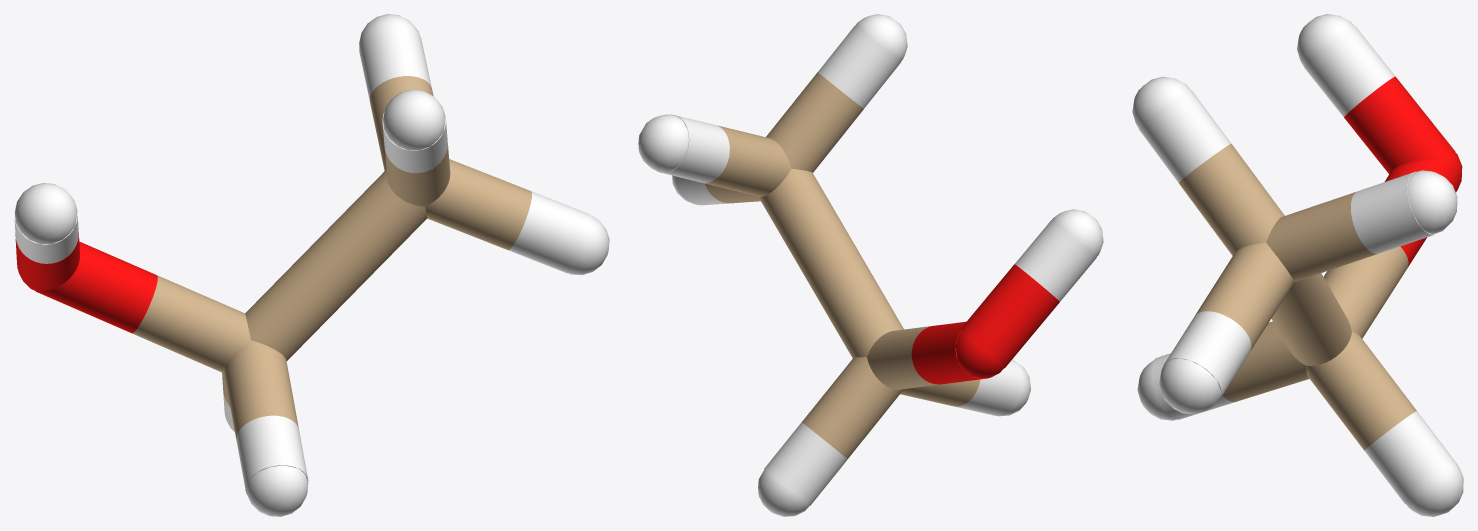
File: ethanol.dae
3 views of the same model, side by side, from view 1: azimuth 30°, elevation 25°; view 2: azimuth 150°, elevation 25°; view 3: azimuth 270°, elevation 25° (orthographic). The views are drawn at different scales.
Visible parts, largest first — view 1: subnode_13, subnode_10, subnode_18, subnode_9, subnode_14, subnode_19, subnode_21, subnode_15, subnode_8, subnode_7, subnode_3, subnode_22 (+5 smaller); view 2: subnode_13, subnode_11, subnode_22, subnode_16, subnode_17, subnode_23, subnode_20, subnode_12, subnode_9, subnode_21, subnode_10, subnode_6 (+8 smaller); view 3: subnode_16, subnode_22, subnode_11, subnode_20, subnode_18, subnode_13, subnode_17, subnode_23, subnode_12, subnode_10, subnode_21, subnode_19 (+9 smaller).
Part boxes in pixels (bbox=[...]): subnode_13: bbox=[245, 169, 427, 360]; subnode_10: bbox=[132, 275, 250, 373]; subnode_18: bbox=[425, 159, 531, 249]; subnode_9: bbox=[36, 241, 157, 333]; subnode_14: bbox=[224, 340, 298, 440]; subnode_19: bbox=[508, 191, 590, 273]; subnode_21: bbox=[359, 25, 431, 100]; subnode_15: bbox=[236, 415, 308, 493]; subnode_8: bbox=[14, 183, 77, 243]; subnode_7: bbox=[383, 89, 445, 150]; subnode_3: bbox=[246, 465, 308, 516]; subnode_22: bbox=[384, 142, 450, 206]; subnode_13: bbox=[758, 169, 903, 358]; subnode_11: bbox=[960, 264, 1059, 368]; subnode_22: bbox=[766, 72, 863, 172]; subnode_16: bbox=[802, 357, 903, 458]; subnode_17: bbox=[764, 422, 847, 505]; subnode_23: bbox=[818, 25, 900, 108]; subnode_20: bbox=[702, 125, 791, 196]; subnode_12: bbox=[1015, 220, 1096, 301]; subnode_9: bbox=[911, 321, 993, 384]; subnode_21: bbox=[656, 114, 729, 182]; subnode_10: bbox=[867, 326, 937, 389]; subnode_6: bbox=[638, 114, 688, 172]; subnode_16: bbox=[1306, 332, 1416, 450]; subnode_22: bbox=[1179, 143, 1284, 255]; subnode_11: bbox=[1344, 76, 1455, 173]; subnode_20: bbox=[1266, 192, 1376, 281]; subnode_18: bbox=[1194, 242, 1294, 350]; subnode_13: bbox=[1271, 273, 1351, 365]; subnode_17: bbox=[1364, 411, 1457, 503]; subnode_23: bbox=[1139, 90, 1230, 182]; subnode_12: bbox=[1304, 26, 1395, 116]; subnode_10: bbox=[1324, 246, 1408, 338]; subnode_21: bbox=[1351, 171, 1437, 253]; subnode_19: bbox=[1163, 311, 1251, 401].
Size of the model in its own units: 3.79 by 3 by 2.01.
